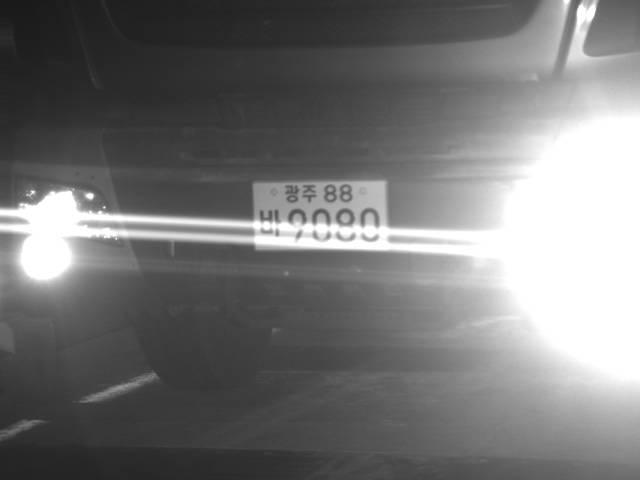car: (8, 1, 640, 393)
plate: (250, 178, 396, 251)
